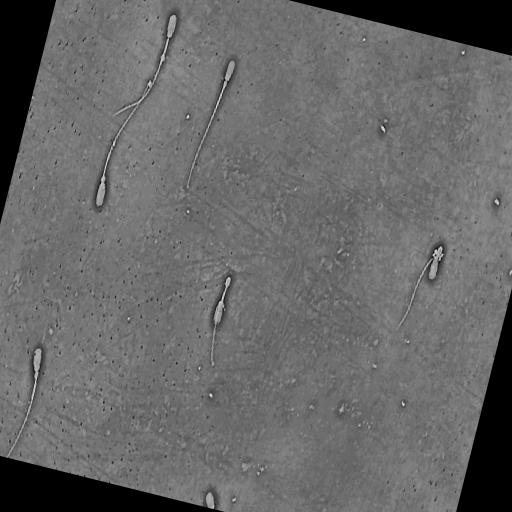distal-droplet: (161, 54, 165, 62)
folded-tail: (399, 256, 437, 326), (211, 276, 231, 364)
normal: (111, 13, 178, 118), (96, 81, 151, 207), (186, 59, 236, 191), (5, 346, 42, 458), (396, 245, 444, 327), (210, 275, 231, 368)
proximal-droplet: (223, 79, 227, 89), (34, 370, 39, 378), (101, 175, 105, 183)
